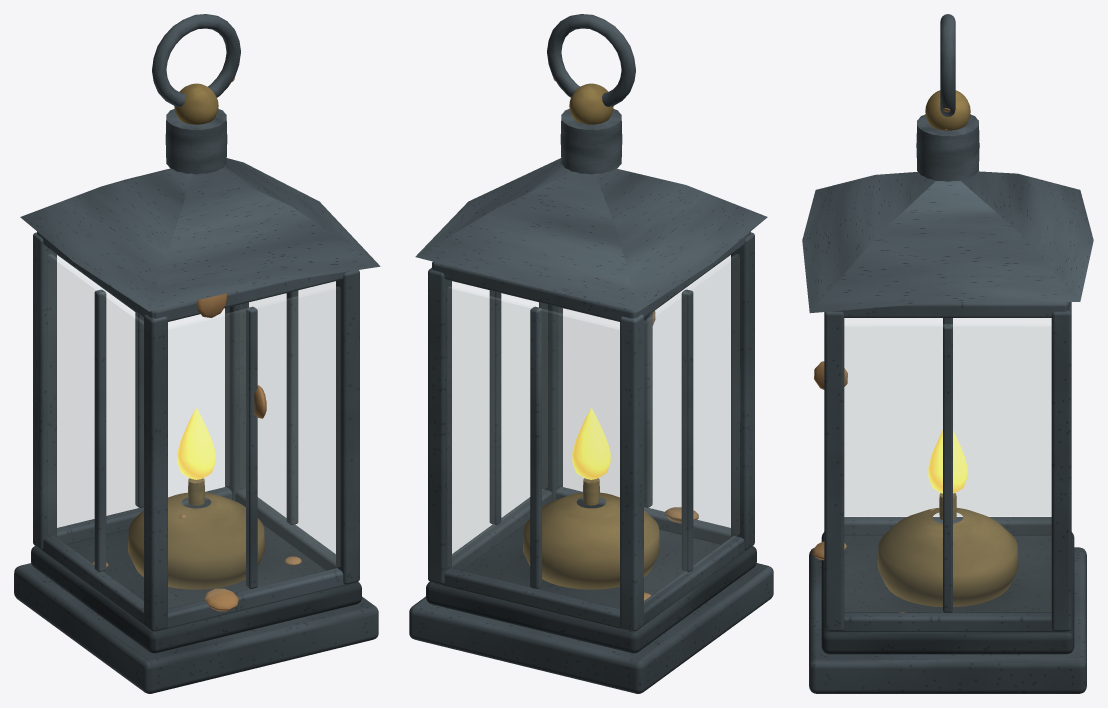
3 views of the same model, side by side, from view 1: azimuth 30°, elevation 25°; view 2: azimuth 150°, elevation 25°; view 3: azimuth 270°, elevation 25° (orthographic). The views are drawn at different scales.
Parts seen in each view (by area): view 1: forged iron, blown glass, blackened strap iron, aged brass fittings, lamp flame, peened pin; view 2: forged iron, blown glass, blackened strap iron, aged brass fittings, lamp flame; view 3: forged iron, blown glass, blackened strap iron, aged brass fittings, lamp flame, peened pin.
Boxes of the visible parts, box(x1,y1,x2,y2) form: forged iron: box(14, 14, 380, 693); blown glass: box(48, 254, 339, 607); blackened strap iron: box(31, 525, 361, 653); aged brass fittings: box(128, 83, 264, 589); lamp flame: box(177, 408, 215, 479); peened pin: box(197, 77, 266, 611); forged iron: box(409, 14, 773, 693); blown glass: box(448, 254, 739, 607); blackened strap iron: box(426, 525, 756, 653); aged brass fittings: box(523, 83, 659, 589); lamp flame: box(572, 408, 610, 479); forged iron: box(802, 14, 1093, 693); blown glass: box(844, 318, 1051, 611); blackened strap iron: box(821, 532, 1074, 654); aged brass fittings: box(877, 90, 1018, 606); lamp flame: box(928, 430, 967, 493); peened pin: box(811, 108, 950, 560).
Bounding box in the file's own units: 0.2308 × 0.541 × 0.2308.
Materials: 6 (3 with a texture image).
